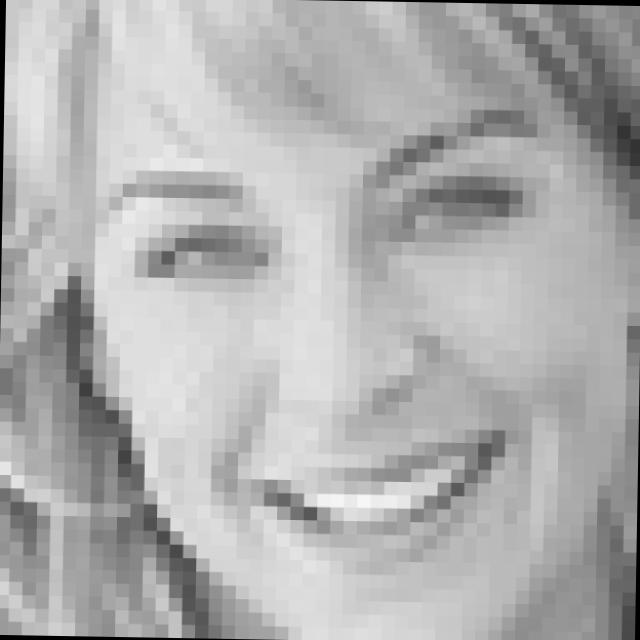happy: (91, 94, 554, 586)
